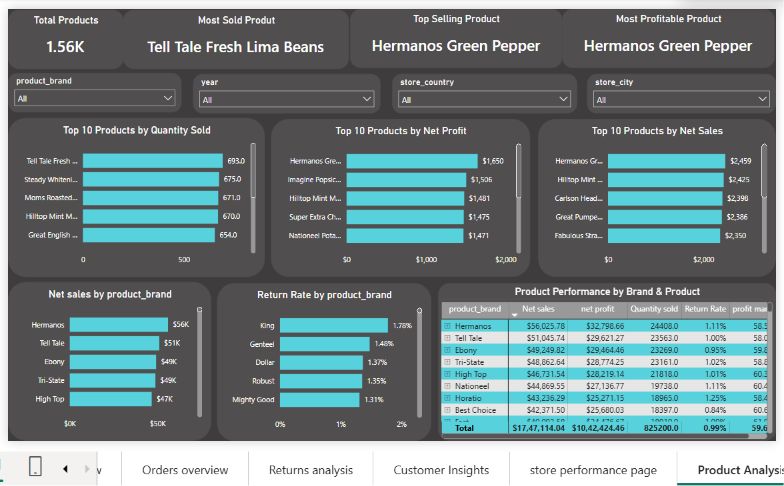

What the dashboard file says about the page in this screenshot:
{"tool":"powerbi","page":{"name":"Product Analysis Page","canvas":[1280,720],"ordinal":5},"visuals":[{"type":"cardVisual","title":"Total Products","fields":{"Data":["Products.Total Products"]},"box":[0,1.6,192.5,98.6],"z":0},{"type":"cardVisual","title":"Top Selling Product","fields":{"Data":["Products.Top Selling Product"]},"box":[569.4,0,354,98.6],"z":1000},{"type":"cardVisual","title":"Most Sold Produt","fields":{"Data":["Products.Most sold Product"]},"box":[192.5,1.6,377,98.6],"z":2000},{"type":"barChart","title":"Top 10 Products by Net Sales","fields":{"Category":["Products.product_name"],"Y":["Measures (2).Net sales"]},"box":[883.7,182.5,396.6,263.5],"z":3000},{"type":"barChart","title":"Top 10 Products by Net Profit","fields":{"Category":["Products.product_name"],"Y":["Measures (2).net profit"]},"box":[439.1,182.5,432.2,263.5],"z":4000},{"type":"cardVisual","title":"Most Profitable Product","fields":{"Data":["Products.most profitable product"]},"box":[924.1,0,354.7,98.6],"z":5000},{"type":"barChart","title":"Top 10 Products by Quantity Sold","fields":{"Category":["Products.product_name"],"Y":["Measures (2).Total quantity sold"]},"box":[0,181,428.1,265],"z":6000},{"type":"barChart","fields":{"Category":["Products.product_brand"],"Y":["Measures (2).Net sales"]},"box":[0,455.6,338.9,264.8],"z":7000},{"type":"barChart","fields":{"Category":["Products.product_brand"],"Y":["Measures (2).Return Rate"]},"box":[349,456.6,357,263.9],"z":8000},{"type":"pivotTable","title":"Product Performance by Brand & Product","fields":{"Rows":["Products.product_brand","Products.product_name"],"Values":["Measures (2).Net sales","Measures (2).net profit","Measures (2).Total quantity sold","Measures (2).Return Rate","Measures (2).profit margin"]},"box":[716.3,456.9,564,263.5],"z":9000},{"type":"slicer","fields":{"Values":["Products.product_brand"]},"box":[0,106,289.5,65.9],"z":10000},{"type":"slicer","fields":{"Values":["Stores.store_country"]},"box":[639.5,108.4,308.7,65.9],"z":11000},{"type":"slicer","fields":{"Values":["calendar.year"]},"box":[308.7,108.4,312.9,65.9],"z":12000},{"type":"slicer","fields":{"Values":["Stores.store_city"]},"box":[964.7,108.4,315.6,65.9],"z":13000}]}

Visuals, with their boxes on the page's 1280x720 design canvas (x1, y1, x2, y2). These are canvas units, not pixel positions in the 784x486 screenshot, which may show the page scaled, cropped or inside an application window:
"Total Products" cardVisual: bbox=[0, 2, 192, 100]
"Top Selling Product" cardVisual: bbox=[569, 0, 923, 99]
"Most Sold Produt" cardVisual: bbox=[192, 2, 570, 100]
"Top 10 Products by Net Sales" barChart: bbox=[884, 182, 1280, 446]
"Top 10 Products by Net Profit" barChart: bbox=[439, 182, 871, 446]
"Most Profitable Product" cardVisual: bbox=[924, 0, 1279, 99]
"Top 10 Products by Quantity Sold" barChart: bbox=[0, 181, 428, 446]
barChart - Products.product_brand x Measures (2).Net sales: bbox=[0, 456, 339, 720]
barChart - Products.product_brand x Measures (2).Return Rate: bbox=[349, 457, 706, 720]
"Product Performance by Brand & Product" pivotTable: bbox=[716, 457, 1280, 720]
slicer - Products.product_brand: bbox=[0, 106, 290, 172]
slicer - Stores.store_country: bbox=[640, 108, 948, 174]
slicer - calendar.year: bbox=[309, 108, 622, 174]
slicer - Stores.store_city: bbox=[965, 108, 1280, 174]
